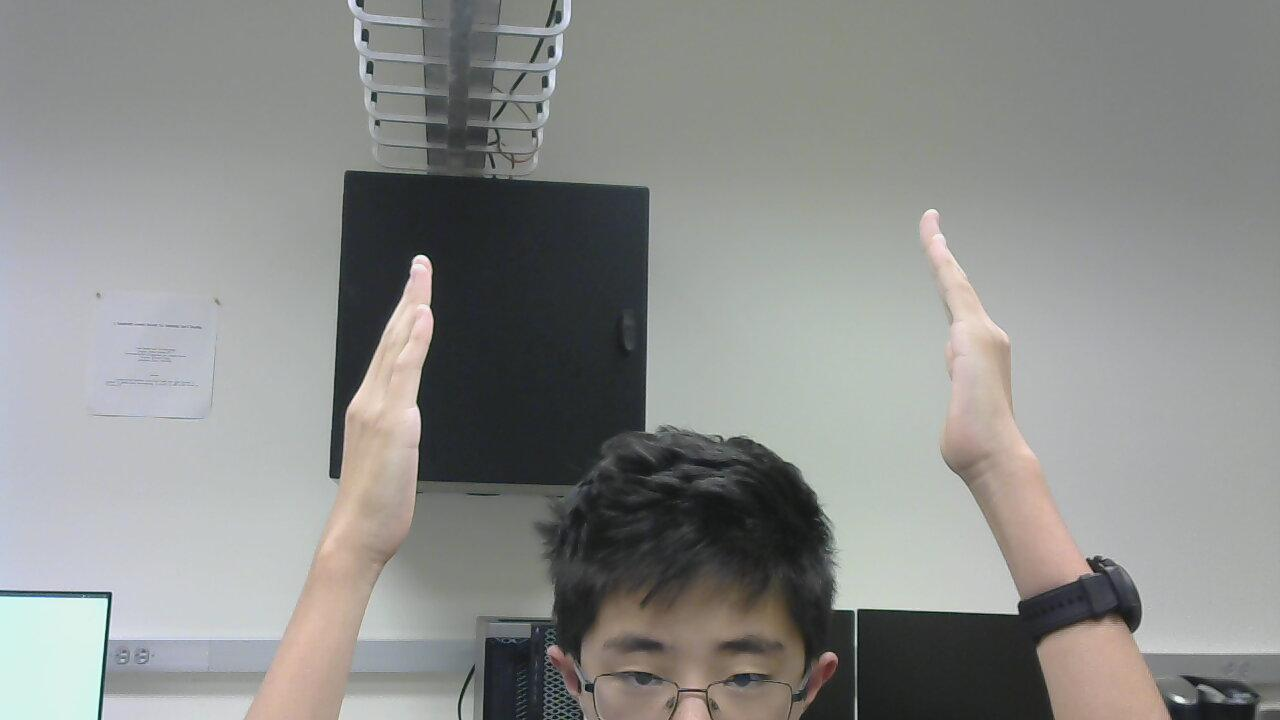hands: (902, 203, 1055, 492), (317, 241, 446, 558)
